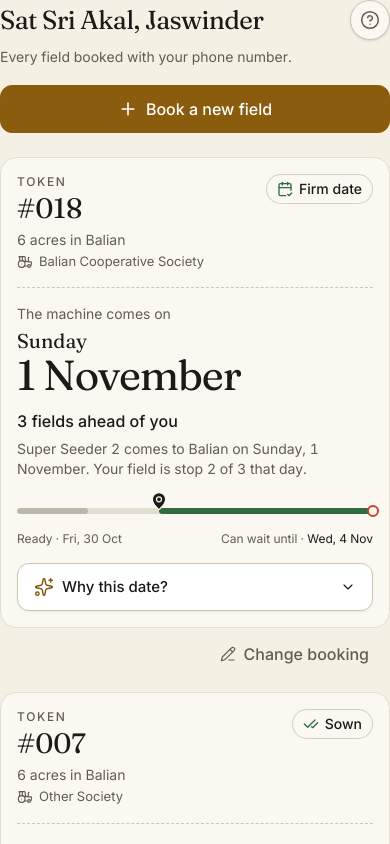
Test: /dashboard for a farmer (phone session) › opens the 'How your date works' guide when clicking the question mark button
Click the button named "How your date works".
click(370, 20)  # box [350,0,389,40]
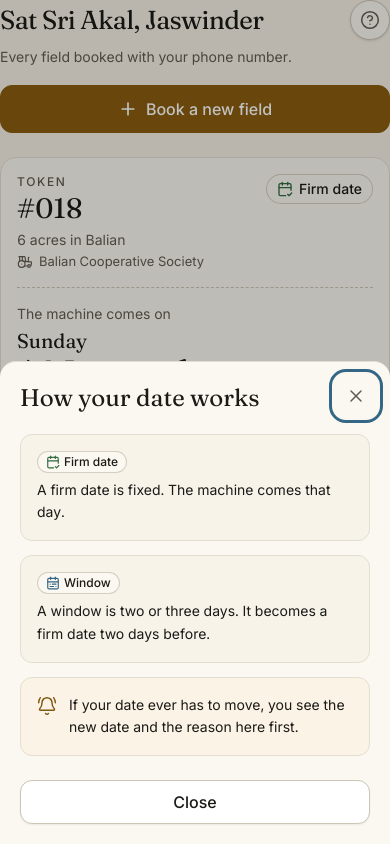
Now the dialog is shown, box [0,360,389,843]
Now the text "A firm date is fixed. The machine comes that day." is shown, box [37,478,353,524]
Now the text "A window is two or three days. It becomes a firm date two days before." is shown, box [37,600,353,646]
